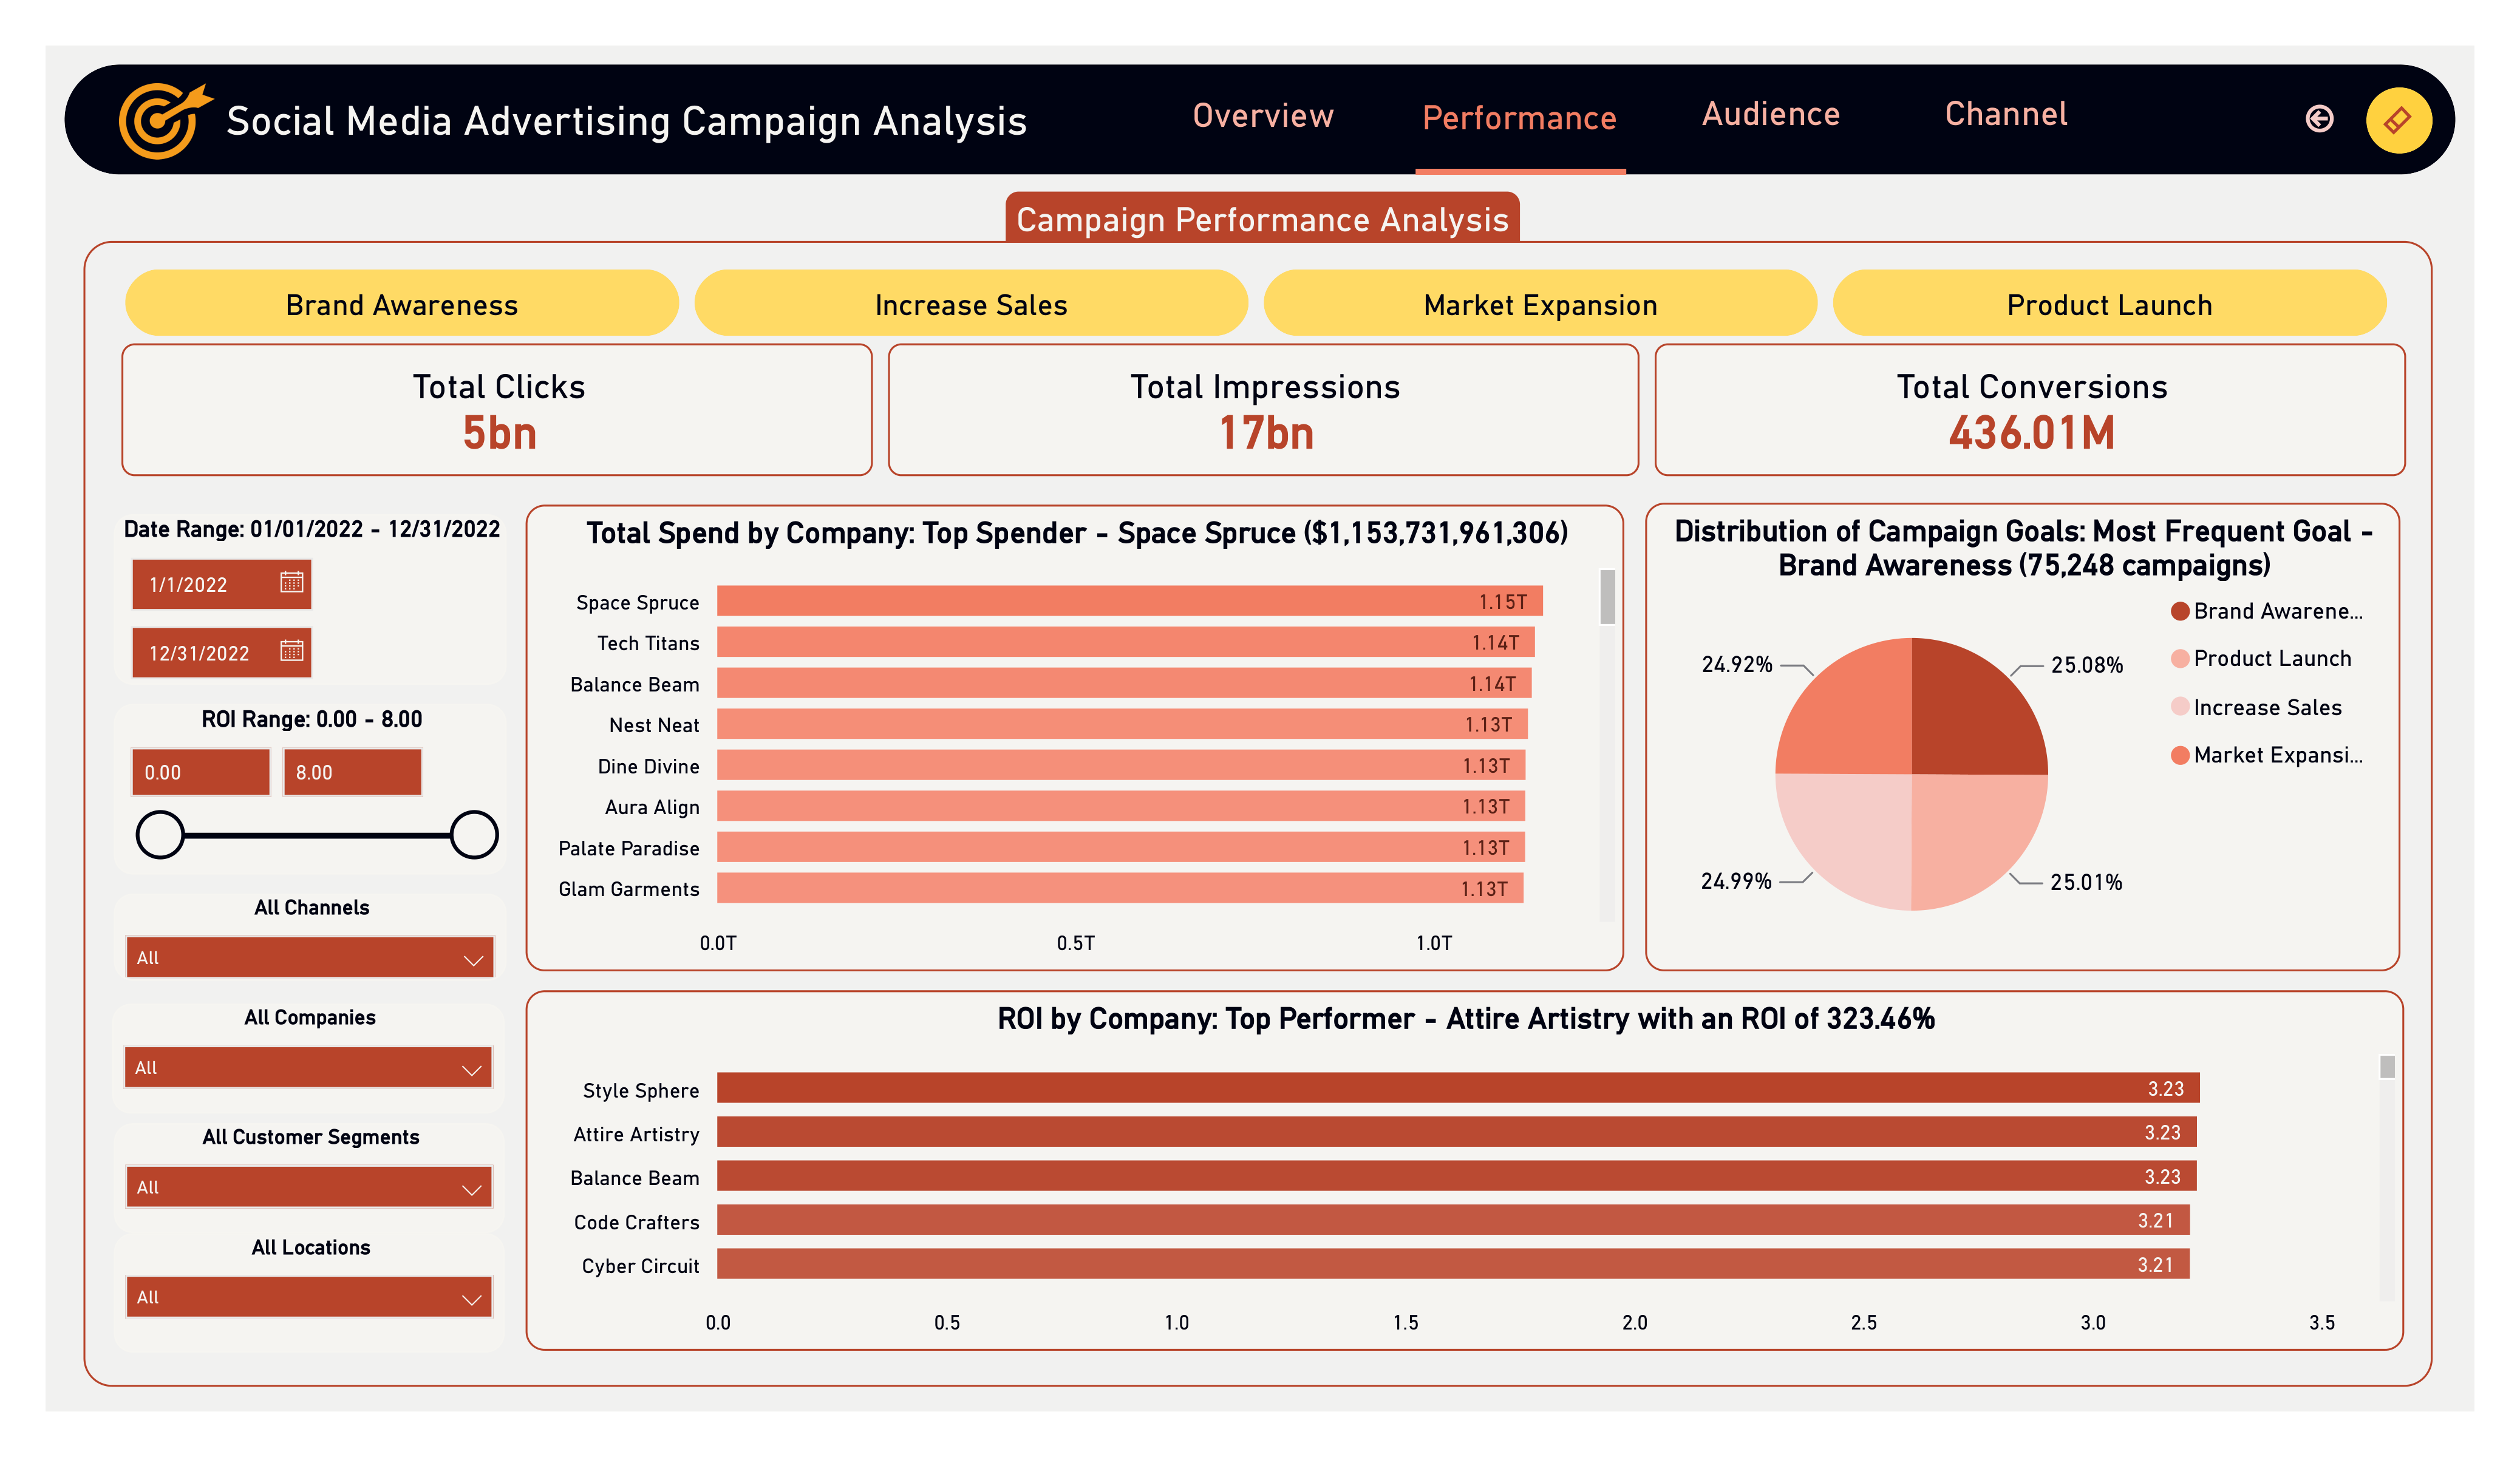

The dashboard page shown, as its layout file describes it:
{"tool":"powerbi","page":{"name":"Performance","canvas":[1280,720],"ordinal":1},"visuals":[{"type":"shape","box":[0,0,1280,78.3],"z":0},{"type":"textbox","box":[95,26.7,460,40],"z":1000},{"type":"actionButton","box":[1223.3,21.7,35,35],"z":2000},{"type":"actionButton","box":[571.7,16.7,140,38.3],"z":3000},{"type":"shape","box":[711.7,55,131.7,23.3],"z":4000},{"type":"actionButton","box":[707.2,16.7,140,40],"z":5000},{"type":"actionButton","box":[842.8,16.7,133.3,36.7],"z":6000},{"type":"actionButton","box":[971.7,16.7,123.3,36.7],"z":7000},{"type":"image","box":[20,10,88.3,60],"z":8000},{"type":"shape","box":[20,103.3,1238.3,603.3],"z":9000},{"type":"shape","box":[496,66.5,290.7,47.7],"z":10000},{"type":"barChart","fields":{"Category":["Social_Media_Advertising_cleaned.Company"],"Y":["All measures.ROI_By_Company"]},"box":[253.3,498.3,990,190],"z":11000},{"type":"pieChart","fields":{"Y":["All measures.Campaign_Goal_Count"],"Category":["Social_Media_Advertising_cleaned.Campaign_Goal"]},"box":[842.6,240.9,398.2,246.7],"z":12000},{"type":"clusteredBarChart","fields":{"Category":["Social_Media_Advertising_cleaned.Company"],"Y":["All measures.Total_Spend_By_Company"]},"box":[253.3,241.7,578.3,246.7],"z":13000},{"type":"cardVisual","fields":{"Data":["All measures.Total_Clicks","All measures.Total_Impressions","All measures.Total_Conversions"]},"box":[40.4,157.3,1203.3,69.3],"z":14000},{"type":"advancedSlicerVisual","title":"Campaign Goal","fields":{"Values":["Social_Media_Advertising_cleaned.Campaign_Goal"]},"box":[37.5,114,1203.3,43.3],"z":15000},{"type":"actionButton","box":[1181.7,21.7,33.3,33.3],"z":16000},{"type":"slicer","fields":{"Values":["Social_Media_Advertising_cleaned.Date"]},"box":[35.7,247.1,207.1,90],"z":17000},{"type":"slicer","fields":{"Values":["Social_Media_Advertising_cleaned.ROI"]},"box":[35.7,347.1,207.1,90],"z":18000},{"type":"slicer","fields":{"Values":["Social_Media_Advertising_cleaned.Channel_Used"]},"box":[35.7,447.1,207.1,45.7],"z":19000},{"type":"slicer","fields":{"Values":["Social_Media_Advertising_cleaned.Company"]},"box":[35,505,206.7,58.3],"z":20000},{"type":"slicer","fields":{"Values":["Social_Media_Advertising_cleaned.Customer_Segment"]},"box":[35.6,567.8,206.7,57.8],"z":21000},{"type":"slicer","fields":{"Values":["Social_Media_Advertising_cleaned.Location"]},"box":[35.6,625.6,206.7,63.3],"z":22000}]}

Visuals, with their boxes on the page's 1280x720 design canvas (x1, y1, x2, y2). These are canvas units, not pixel positions in the 2520x1457 screenshot, which may show the page scaled, cropped or inside an application window:
shape: [x1=0, y1=0, x2=1280, y2=78]
textbox: [x1=95, y1=27, x2=555, y2=67]
actionButton: [x1=1223, y1=22, x2=1258, y2=57]
actionButton: [x1=572, y1=17, x2=712, y2=55]
shape: [x1=712, y1=55, x2=843, y2=78]
actionButton: [x1=707, y1=17, x2=847, y2=57]
actionButton: [x1=843, y1=17, x2=976, y2=53]
actionButton: [x1=972, y1=17, x2=1095, y2=53]
image: [x1=20, y1=10, x2=108, y2=70]
shape: [x1=20, y1=103, x2=1258, y2=707]
shape: [x1=496, y1=66, x2=787, y2=114]
barChart - Social_Media_Advertising_cleaned.Company x All measures.ROI_By_Company: [x1=253, y1=498, x2=1243, y2=688]
pieChart - All measures.Campaign_Goal_Count x Social_Media_Advertising_cleaned.Campaign_Goal: [x1=843, y1=241, x2=1241, y2=488]
clusteredBarChart - Social_Media_Advertising_cleaned.Company x All measures.Total_Spend_By_Company: [x1=253, y1=242, x2=832, y2=488]
cardVisual - All measures.Total_Clicks x All measures.Total_Impressions: [x1=40, y1=157, x2=1244, y2=227]
"Campaign Goal" advancedSlicerVisual: [x1=38, y1=114, x2=1241, y2=157]
actionButton: [x1=1182, y1=22, x2=1215, y2=55]
slicer - Social_Media_Advertising_cleaned.Date: [x1=36, y1=247, x2=243, y2=337]
slicer - Social_Media_Advertising_cleaned.ROI: [x1=36, y1=347, x2=243, y2=437]
slicer - Social_Media_Advertising_cleaned.Channel_Used: [x1=36, y1=447, x2=243, y2=493]
slicer - Social_Media_Advertising_cleaned.Company: [x1=35, y1=505, x2=242, y2=563]
slicer - Social_Media_Advertising_cleaned.Customer_Segment: [x1=36, y1=568, x2=242, y2=626]
slicer - Social_Media_Advertising_cleaned.Location: [x1=36, y1=626, x2=242, y2=689]
